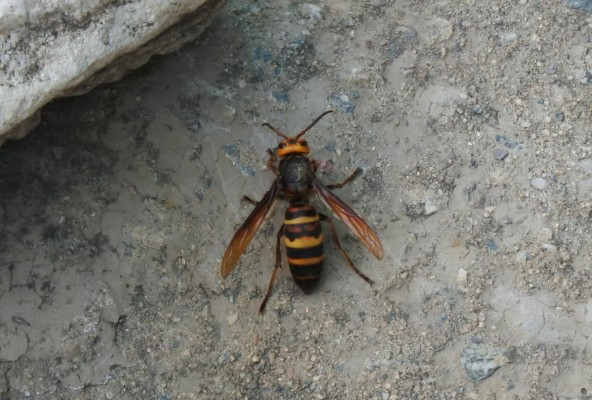asian_giant_hornet: (249, 108, 336, 316)
